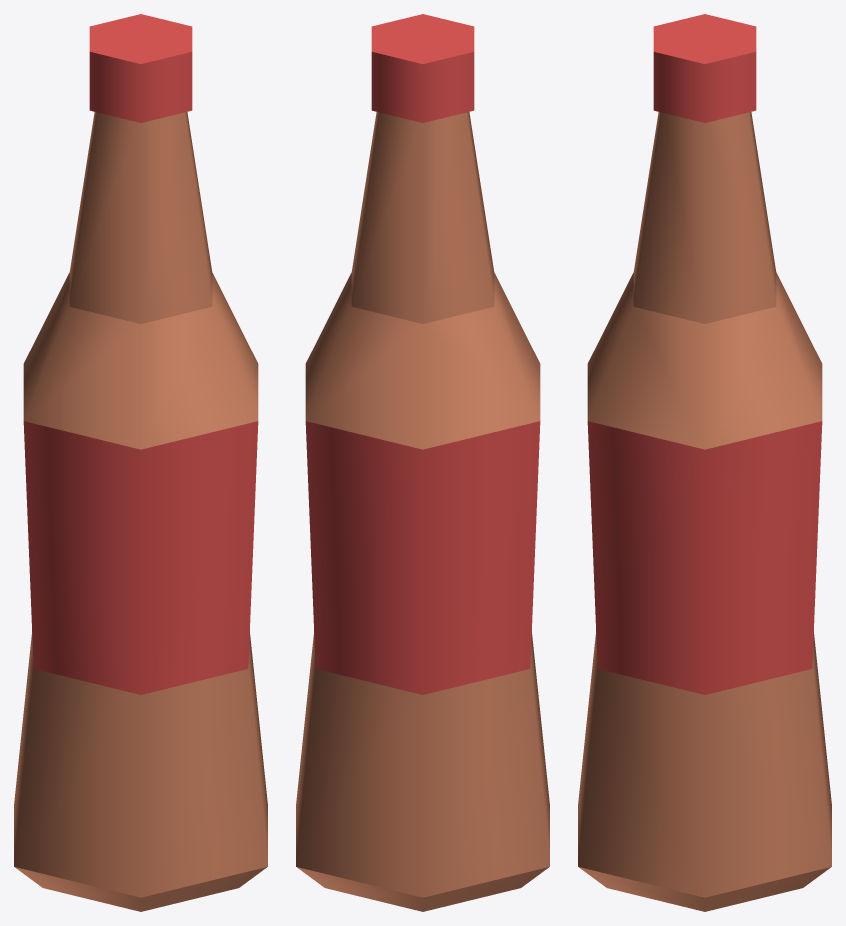
The model's file is sodaBottle.GLB.
The picture shows the model from 3 angles, left to right: view 1: azimuth 30°, elevation 25°; view 2: azimuth 150°, elevation 25°; view 3: azimuth 270°, elevation 25°; orthographic projection.
Visible parts, largest first — view 1: sodaBottle; view 2: sodaBottle; view 3: sodaBottle.
Part boxes in pixels (x1,y1,x2,y2): sodaBottle: (14, 14, 267, 911); sodaBottle: (296, 14, 549, 911); sodaBottle: (578, 14, 831, 911).
Bounding box in the file's own units: 0.1805 × 0.5604 × 0.1563.
